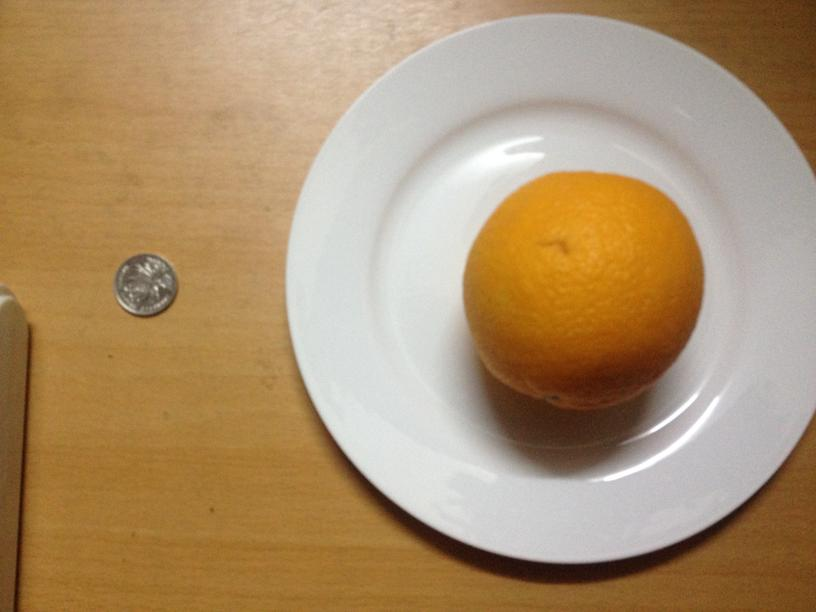coin: (111, 252, 177, 318)
orange: (465, 171, 705, 410)
